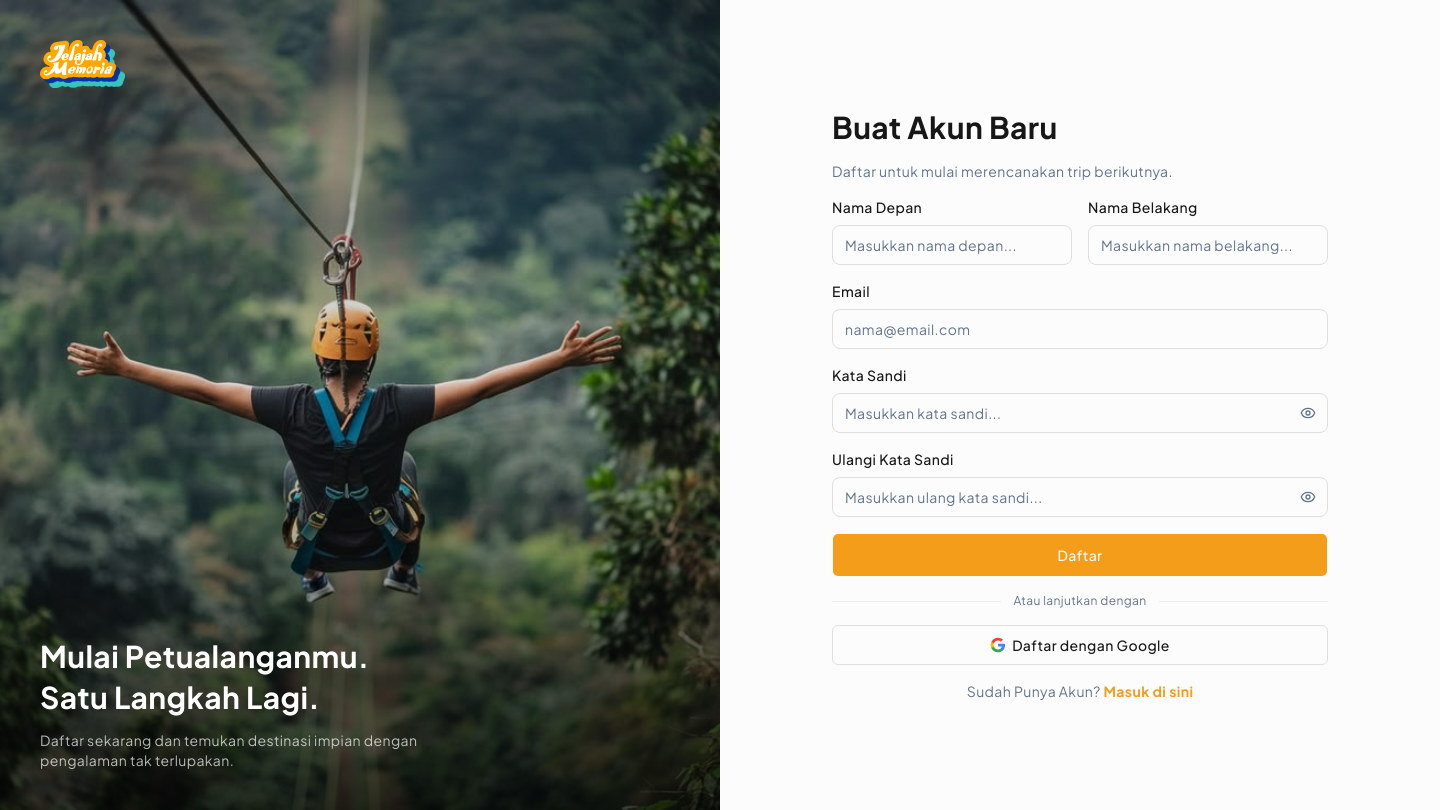
Scenario: RegisterForm validasi › menampilkan pesan error per-field saat submit kosong
Click the button "Daftar" at (1080, 555), box [832,533,1328,577]
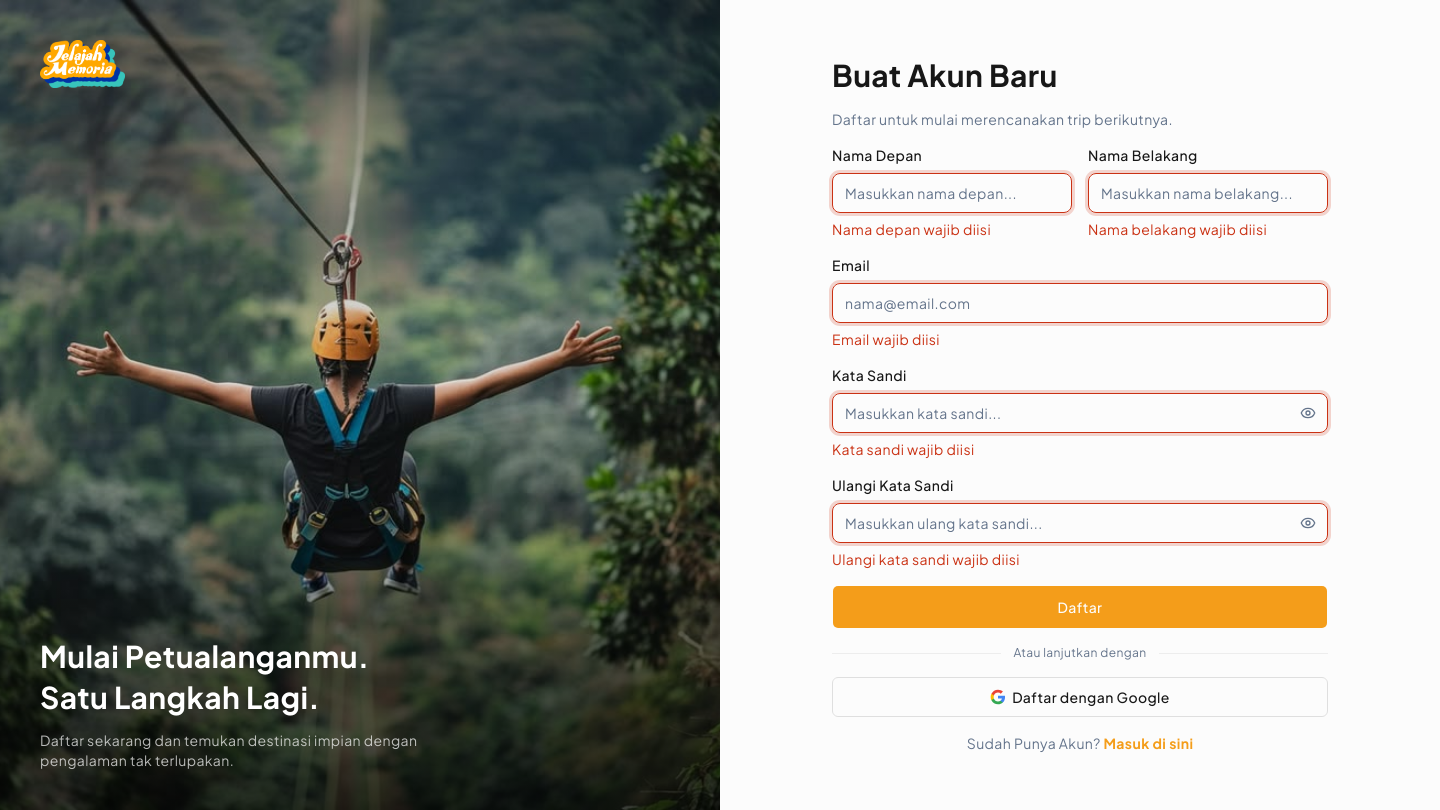
Now the text "Nama depan wajib diisi" is shown, box [832,220,991,238]
Now the text "Nama belakang wajib diisi" is shown, box [1088,220,1267,238]
Now the text "Email wajib diisi" is shown, box [832,330,940,348]
